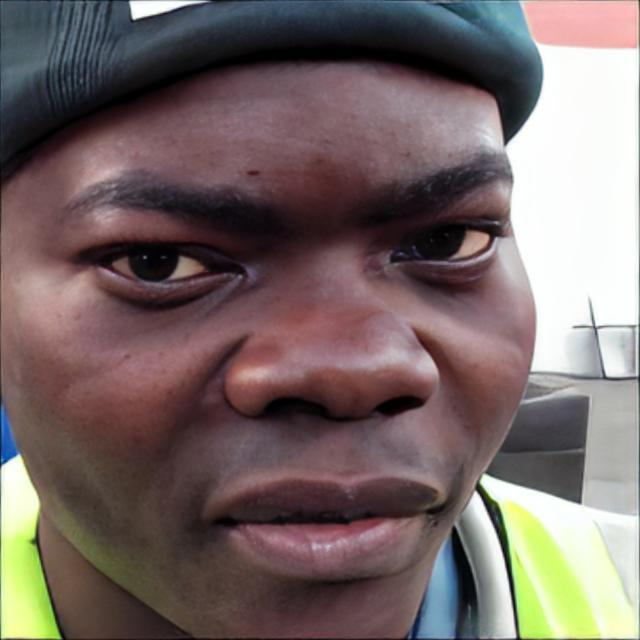anger: (26, 43, 538, 640)
